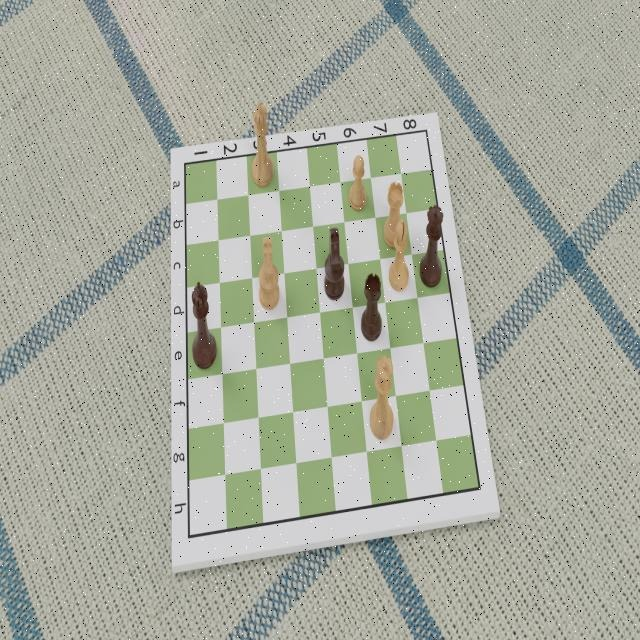black-king: (189, 276, 219, 374)
black-knight: (321, 225, 348, 303)
black-queen: (418, 203, 445, 293)
black-rook: (360, 269, 383, 344)
white-bishop: (388, 215, 412, 294)
white-king: (248, 97, 276, 195)
white-knight: (257, 234, 283, 316)
white-pawn: (346, 152, 369, 216)
white-queen: (367, 354, 396, 442)
white-rook: (383, 179, 409, 250)
